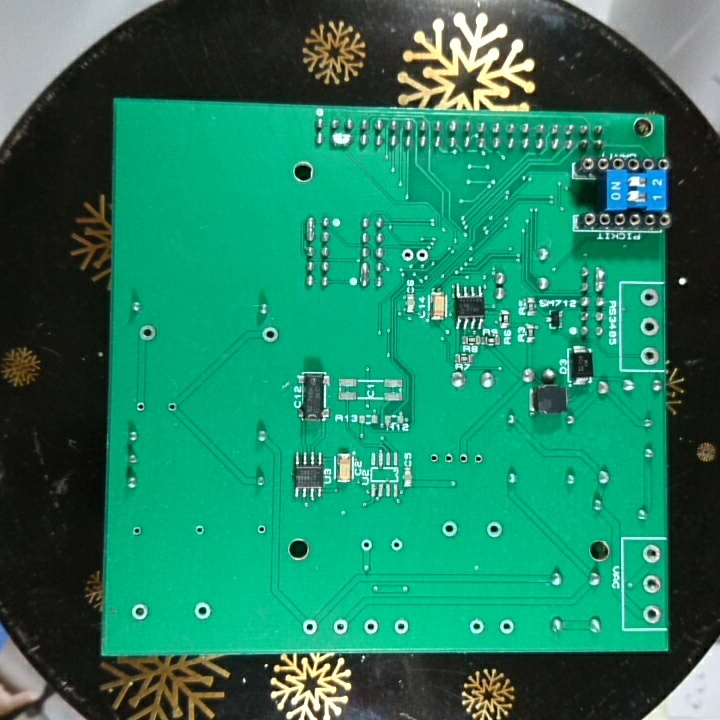F: (638, 315, 661, 339), (639, 602, 663, 625), (638, 286, 661, 309), (136, 321, 157, 346), (638, 343, 660, 366), (191, 599, 213, 622), (641, 572, 662, 596), (483, 519, 505, 541), (259, 324, 280, 346), (129, 602, 150, 623), (438, 519, 459, 540), (641, 543, 661, 565), (299, 617, 321, 637), (391, 617, 411, 637), (361, 617, 381, 637), (498, 616, 517, 636), (388, 535, 406, 555), (468, 617, 485, 636), (331, 617, 348, 635), (359, 536, 374, 555), (400, 246, 415, 265), (192, 522, 208, 538), (163, 398, 178, 415), (254, 520, 268, 538), (471, 449, 485, 467), (415, 246, 428, 265), (442, 450, 457, 465), (129, 523, 143, 539), (457, 450, 470, 467), (133, 398, 147, 413), (427, 450, 439, 465)
P: (592, 264, 608, 296), (328, 131, 356, 149), (302, 212, 317, 242), (357, 259, 371, 288)
